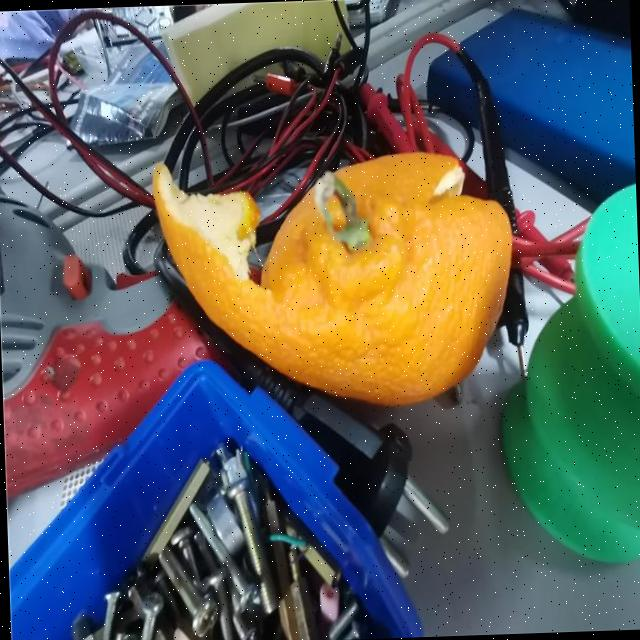orange-peel: (149, 144, 519, 414)
